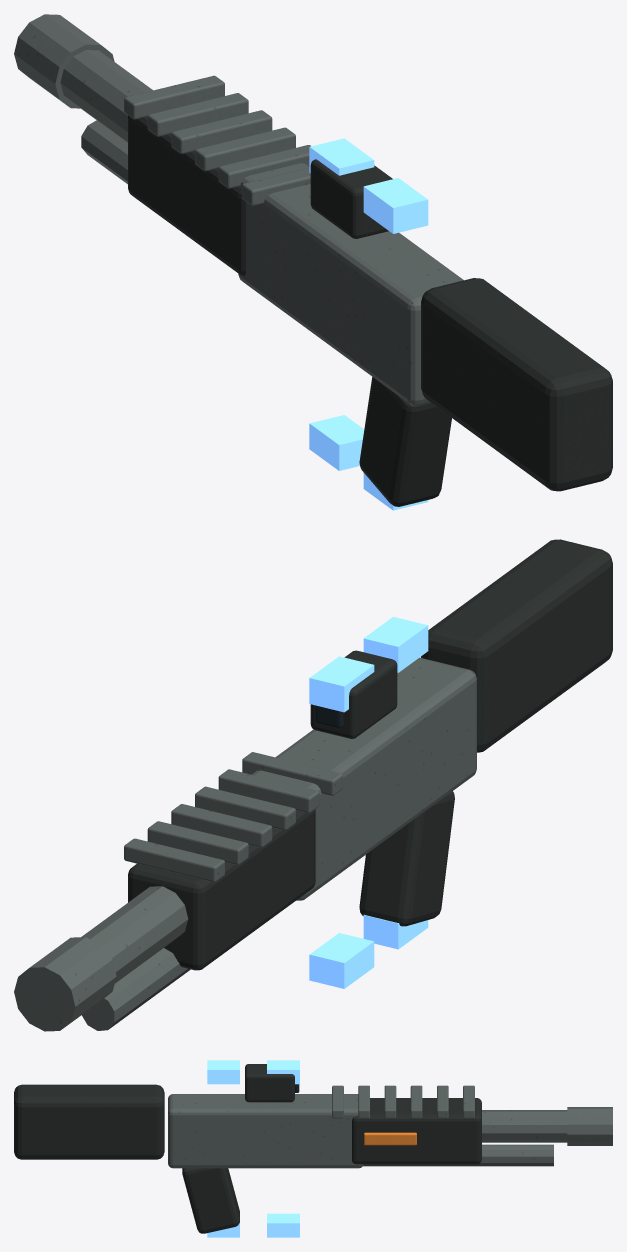
The model's file is shotgun_2.glb.
The picture shows the model from 3 angles, top to bottom: view 1: azimuth 30°, elevation 25°; view 2: azimuth 150°, elevation 25°; view 3: azimuth 270°, elevation 25°; orthographic projection. The views are drawn at different scales.
Visible parts, largest first — view 1: Weapon_shotgun, GRADE_2_RAIL_0_1, GRADE_2_RAIL_1_-1, GRADE_2_RAIL_1_1; view 2: Weapon_shotgun, GRADE_2_RAIL_1_-1, GRADE_2_RAIL_0_1, GRADE_2_RAIL_1_1, GRADE_2_RAIL_0_-1; view 3: Weapon_shotgun, GRADE_2_RAIL_0_1, GRADE_2_RAIL_1_-1, GRADE_2_RAIL_1_1, GRADE_2_RAIL_0_-1.
Boxes of the visible parts, left/top/right/bottom form: Weapon_shotgun: left=14, top=14, right=612, bottom=506; GRADE_2_RAIL_0_1: left=363, top=178, right=428, bottom=233; GRADE_2_RAIL_1_-1: left=309, top=415, right=364, bottom=470; GRADE_2_RAIL_1_1: left=309, top=138, right=374, bottom=175; Weapon_shotgun: left=14, top=539, right=612, bottom=1031; GRADE_2_RAIL_1_-1: left=309, top=933, right=374, bottom=988; GRADE_2_RAIL_0_1: left=363, top=616, right=428, bottom=672; GRADE_2_RAIL_1_1: left=309, top=656, right=374, bottom=712; GRADE_2_RAIL_0_-1: left=363, top=914, right=428, bottom=949; Weapon_shotgun: left=14, top=1064, right=612, bottom=1233; GRADE_2_RAIL_0_1: left=207, top=1060, right=239, bottom=1084; GRADE_2_RAIL_1_-1: left=267, top=1213, right=299, bottom=1237; GRADE_2_RAIL_1_1: left=267, top=1060, right=299, bottom=1084; GRADE_2_RAIL_0_-1: left=207, top=1223, right=239, bottom=1237.
Bounding box in the file's own units: 0.09 × 0.2826 × 0.915.
5 materials, 4 textured.
